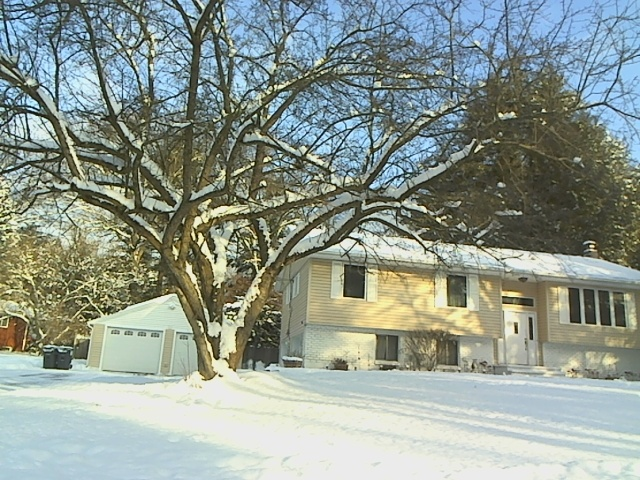Unploughed: (502, 309, 562, 422), (83, 364, 174, 410)
